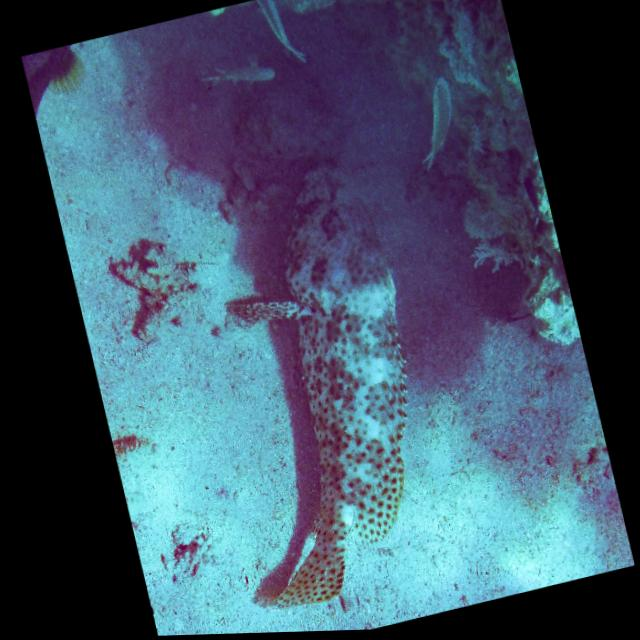Groupers: (167, 151, 463, 620)
